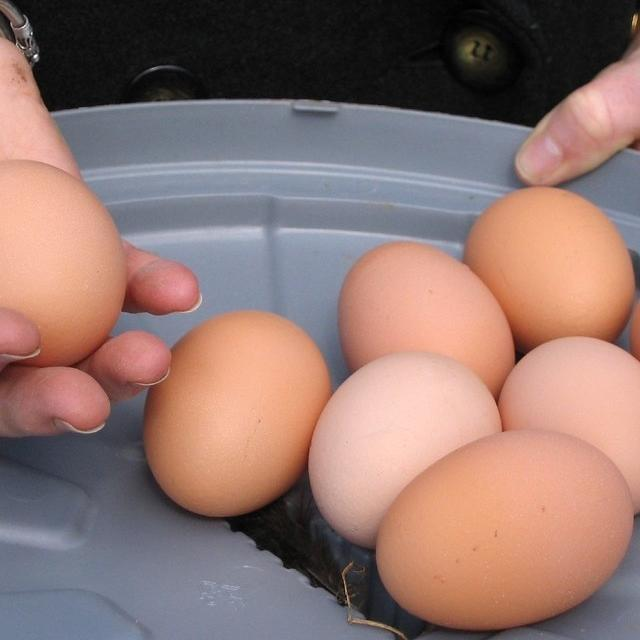egg: (374, 427, 634, 630), (142, 308, 331, 518), (307, 350, 502, 548), (463, 184, 635, 350), (337, 240, 515, 398), (0, 157, 127, 366), (498, 334, 640, 514)
